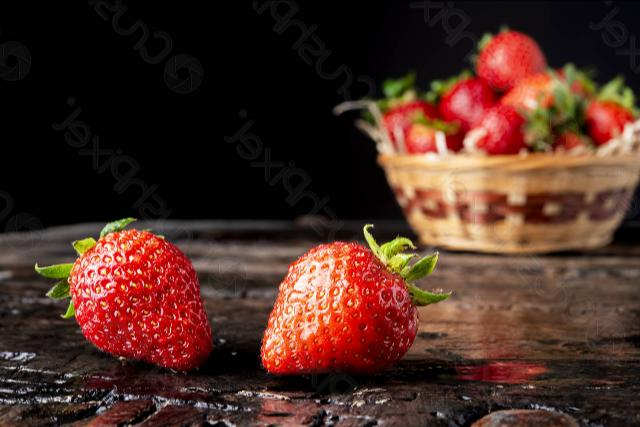Strawberries: (259, 241, 425, 378), (70, 221, 212, 367), (475, 29, 547, 89), (469, 104, 537, 152), (442, 76, 492, 130), (586, 99, 628, 139)
